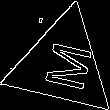M_W: (33, 37, 92, 93)
